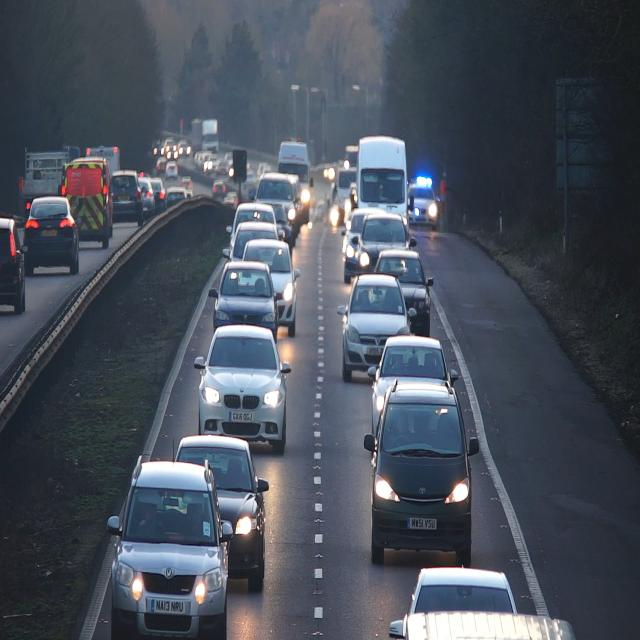emergency lights: (417, 173, 435, 187), (413, 205, 421, 221)
